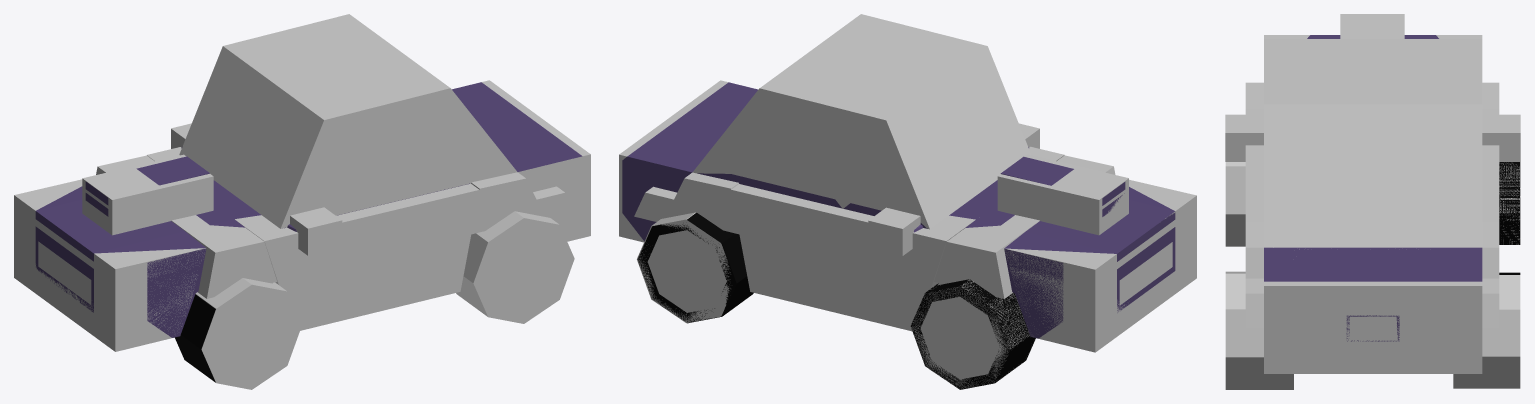
Rendered from SM_Car_01.fbx.
3 views of the same model, side by side, from view 1: azimuth 30°, elevation 25°; view 2: azimuth 150°, elevation 25°; view 3: azimuth 270°, elevation 25° (orthographic). The views are drawn at different scales.
Parts seen in each view (by area): view 1: SM_Car_01_ConvexHulls, SM_Car_01; view 2: SM_Car_01_ConvexHulls, SM_Car_01; view 3: SM_Car_01_ConvexHulls, SM_Car_01.
Boxes of the visible parts, x1,y1,x2,y2 form: SM_Car_01_ConvexHulls: (14, 14, 590, 389); SM_Car_01: (35, 82, 582, 382); SM_Car_01_ConvexHulls: (619, 14, 1196, 389); SM_Car_01: (622, 82, 1175, 389); SM_Car_01_ConvexHulls: (1225, 14, 1520, 389); SM_Car_01: (1264, 35, 1520, 341).
Size of the model in its own units: 432 by 216 by 205.
2 materials, 1 textured.
